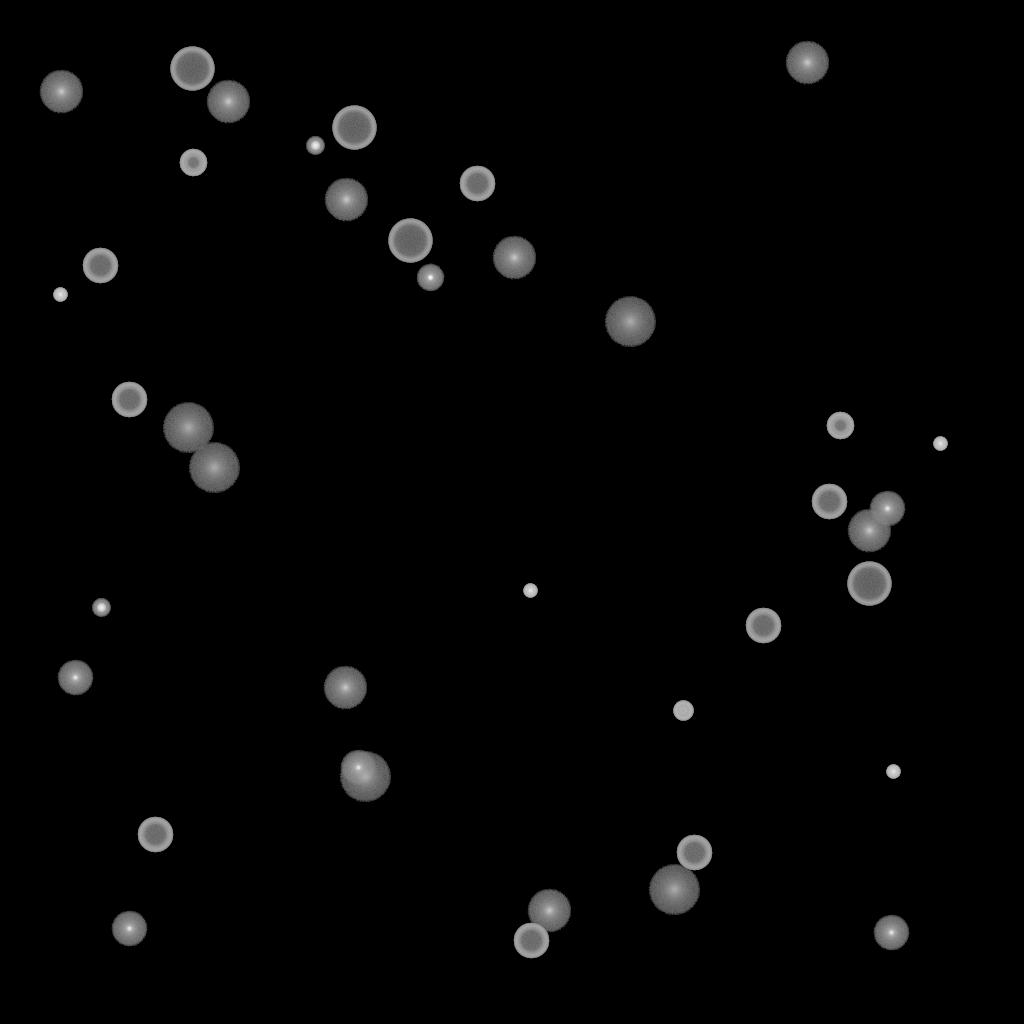depth:-10: (416, 264, 444, 292)
depth:-20: (306, 137, 324, 155), (92, 599, 110, 617)
depth:-30: (523, 584, 537, 598), (886, 765, 900, 779), (933, 437, 947, 451), (53, 288, 67, 302)
depth:-40: (673, 701, 693, 721)
depth:-50: (826, 412, 854, 440), (179, 149, 207, 177)
depth:-60: (745, 608, 781, 644), (82, 248, 118, 284), (459, 166, 495, 202), (137, 817, 173, 853), (811, 484, 847, 520), (111, 382, 147, 418), (676, 835, 712, 871), (513, 923, 549, 959)
depth:-70: (847, 562, 891, 606), (170, 47, 214, 91), (332, 106, 376, 150), (388, 219, 432, 263)
depth:0: (111, 911, 147, 947), (340, 750, 376, 786), (57, 660, 93, 696), (873, 915, 909, 951), (869, 491, 905, 527)
depth:10: (847, 509, 891, 553), (39, 70, 83, 114), (785, 41, 829, 85), (206, 80, 250, 124), (323, 666, 367, 710), (492, 236, 536, 280), (324, 178, 368, 222), (527, 889, 571, 933)
depth:20: (188, 443, 240, 493), (339, 752, 391, 802), (604, 297, 656, 347), (162, 403, 214, 453), (648, 865, 700, 915)
